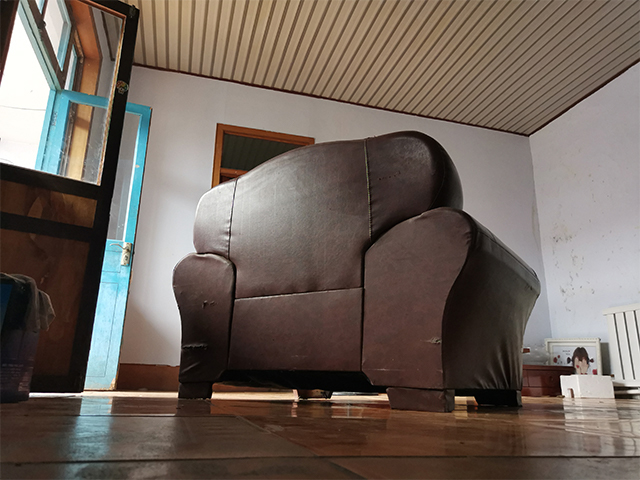sofa: (171, 128, 544, 415)
